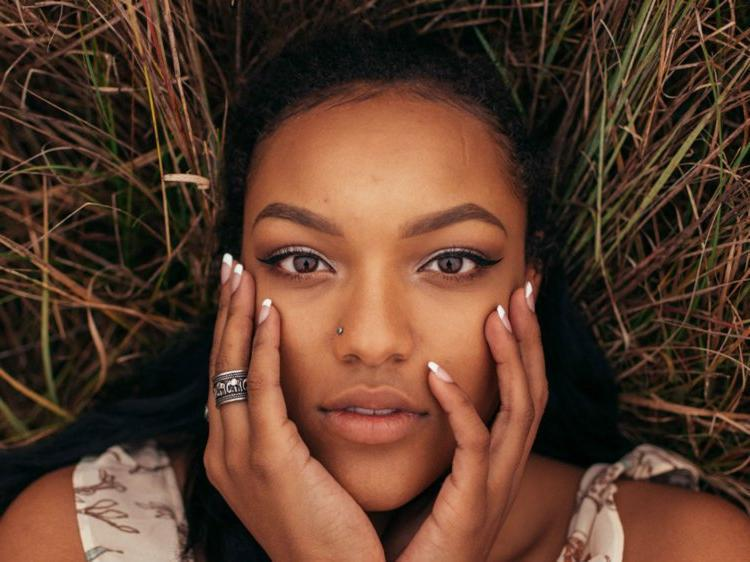Sober: (257, 134, 507, 475)
